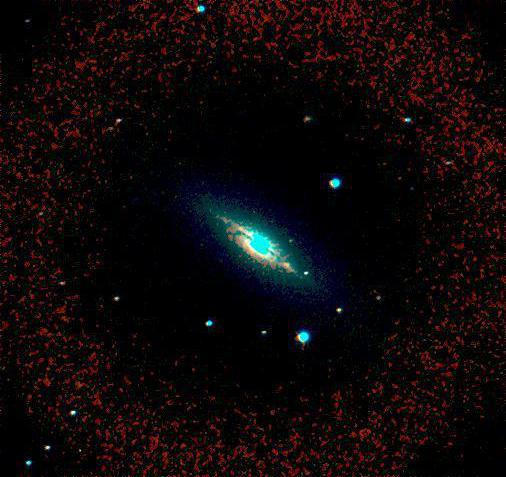star: (294, 258, 324, 288)
